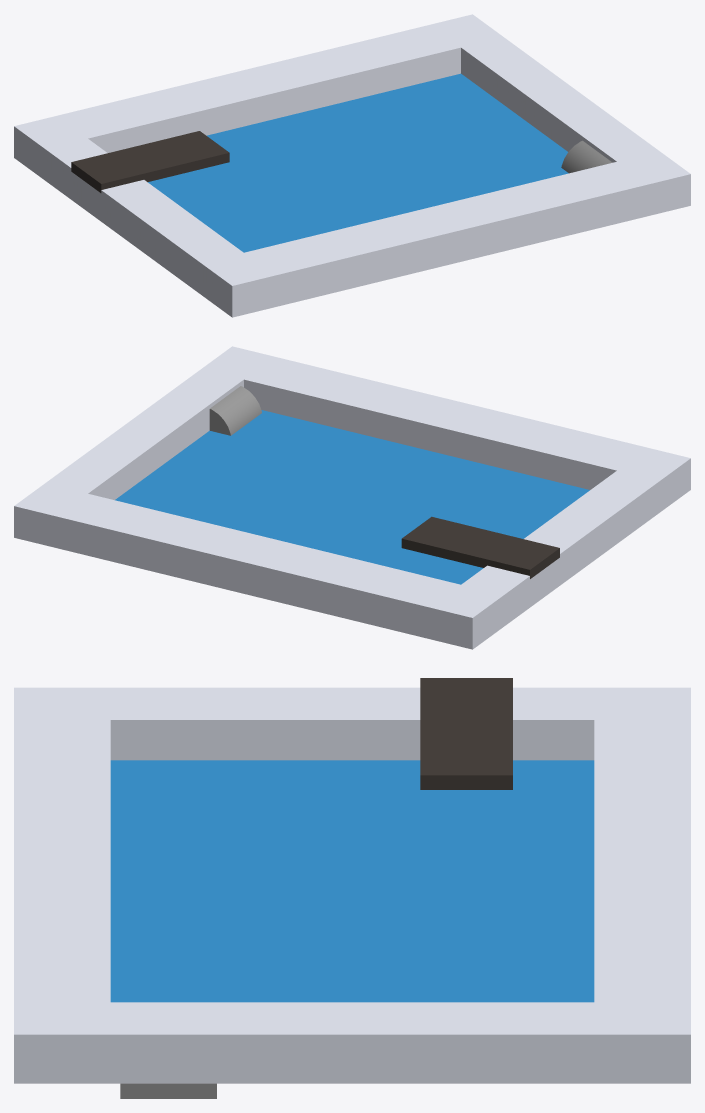
Rendered from pool.fbx.
3 views of the same model, one above another, from view 1: azimuth 30°, elevation 25°; view 2: azimuth 150°, elevation 25°; view 3: azimuth 270°, elevation 25° (orthographic). The views are drawn at different scales.
Visible parts, largest first — view 1: mergedBlocks; view 2: mergedBlocks; view 3: mergedBlocks.
Boxes of the visible parts, x1,y1,x2,y2 form: mergedBlocks: [14, 14, 690, 317]; mergedBlocks: [14, 346, 690, 649]; mergedBlocks: [14, 678, 690, 1098].
Size of the model in its own units: 84.92 by 11.68 by 70.
